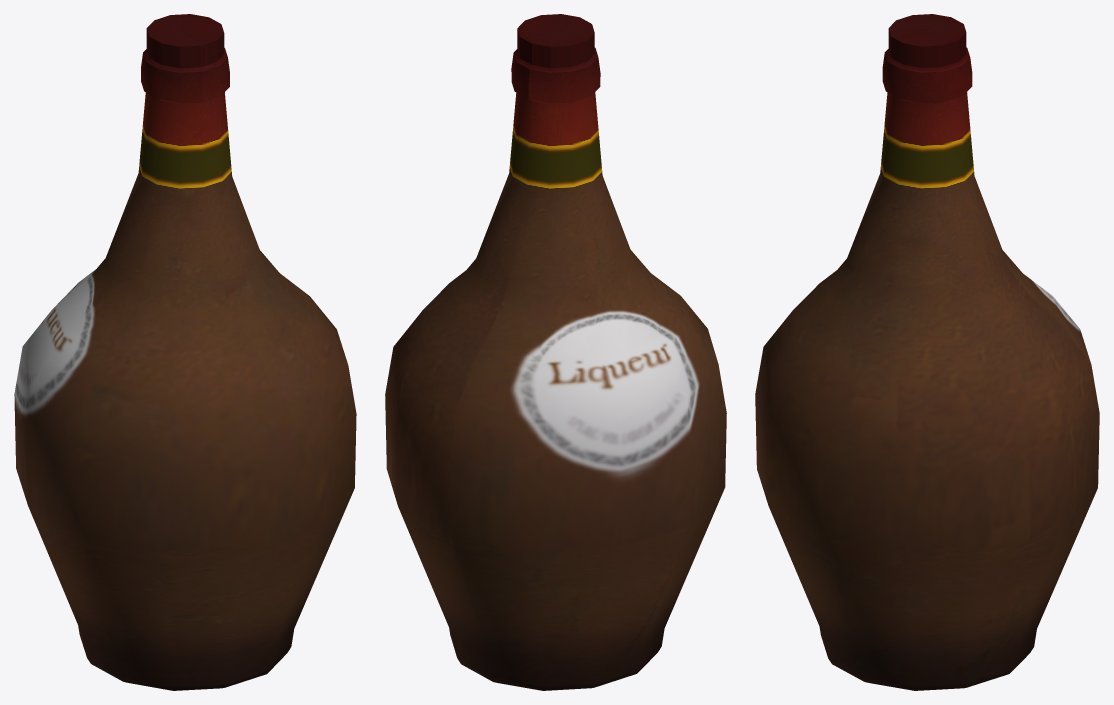
The model's file is Bottle 5.FBX.
The picture shows the model from 3 angles, left to right: view 1: azimuth 30°, elevation 25°; view 2: azimuth 150°, elevation 25°; view 3: azimuth 270°, elevation 25°; orthographic projection.
Parts seen in each view (by area): view 1: Bottle 5; view 2: Bottle 5; view 3: Bottle 5.
Boxes of the visible parts, x1=… form: Bottle 5: x1=14, y1=14, x2=356, y2=690; Bottle 5: x1=385, y1=14, x2=726, y2=690; Bottle 5: x1=755, y1=14, x2=1099, y2=690.
Bounding box in the file's own units: 21.93 × 44.04 × 22.14.
1 material, 1 textured.
